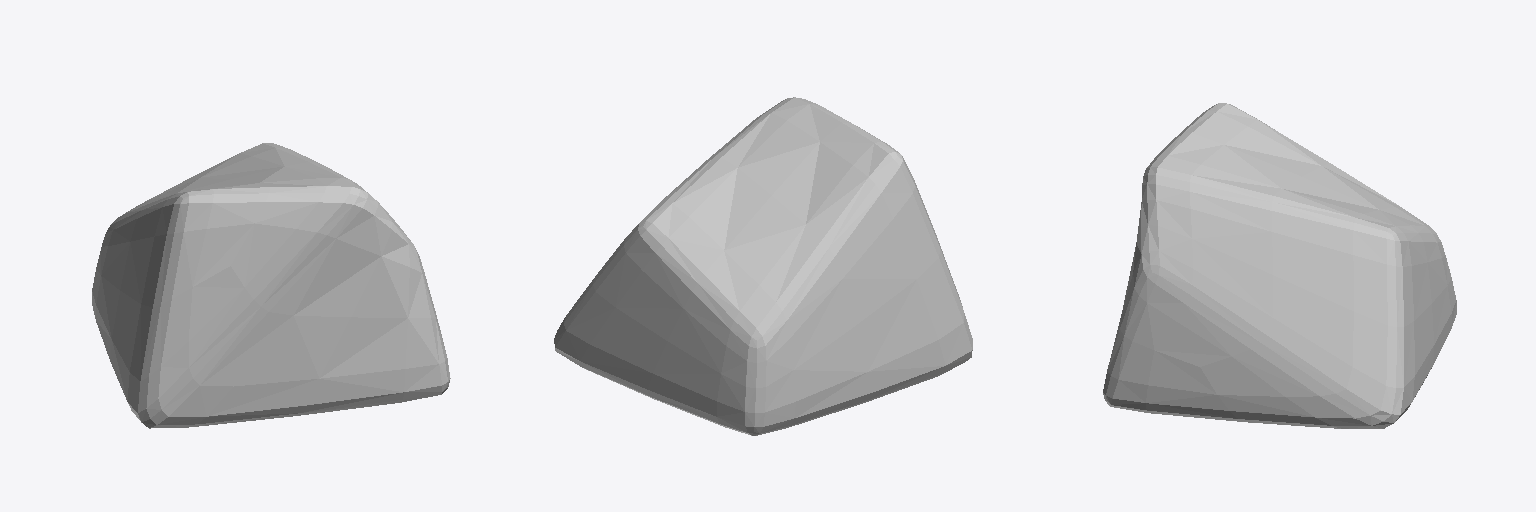
Rendered from rock-tree1-03.obj.
3 views of the same model, side by side, from view 1: azimuth 30°, elevation 25°; view 2: azimuth 150°, elevation 25°; view 3: azimuth 270°, elevation 25° (orthographic).
Parts seen in each view (by area): view 1: rock_tree1_03 Rocks; view 2: rock_tree1_03 Rocks; view 3: rock_tree1_03 Rocks.
Boxes of the visible parts, x1,y1,x2,y2 form: rock_tree1_03 Rocks: [92, 143, 450, 428]; rock_tree1_03 Rocks: [554, 97, 972, 435]; rock_tree1_03 Rocks: [1103, 103, 1456, 428].
Bounding box in the file's own units: 0.3232 × 0.2075 × 0.3072.